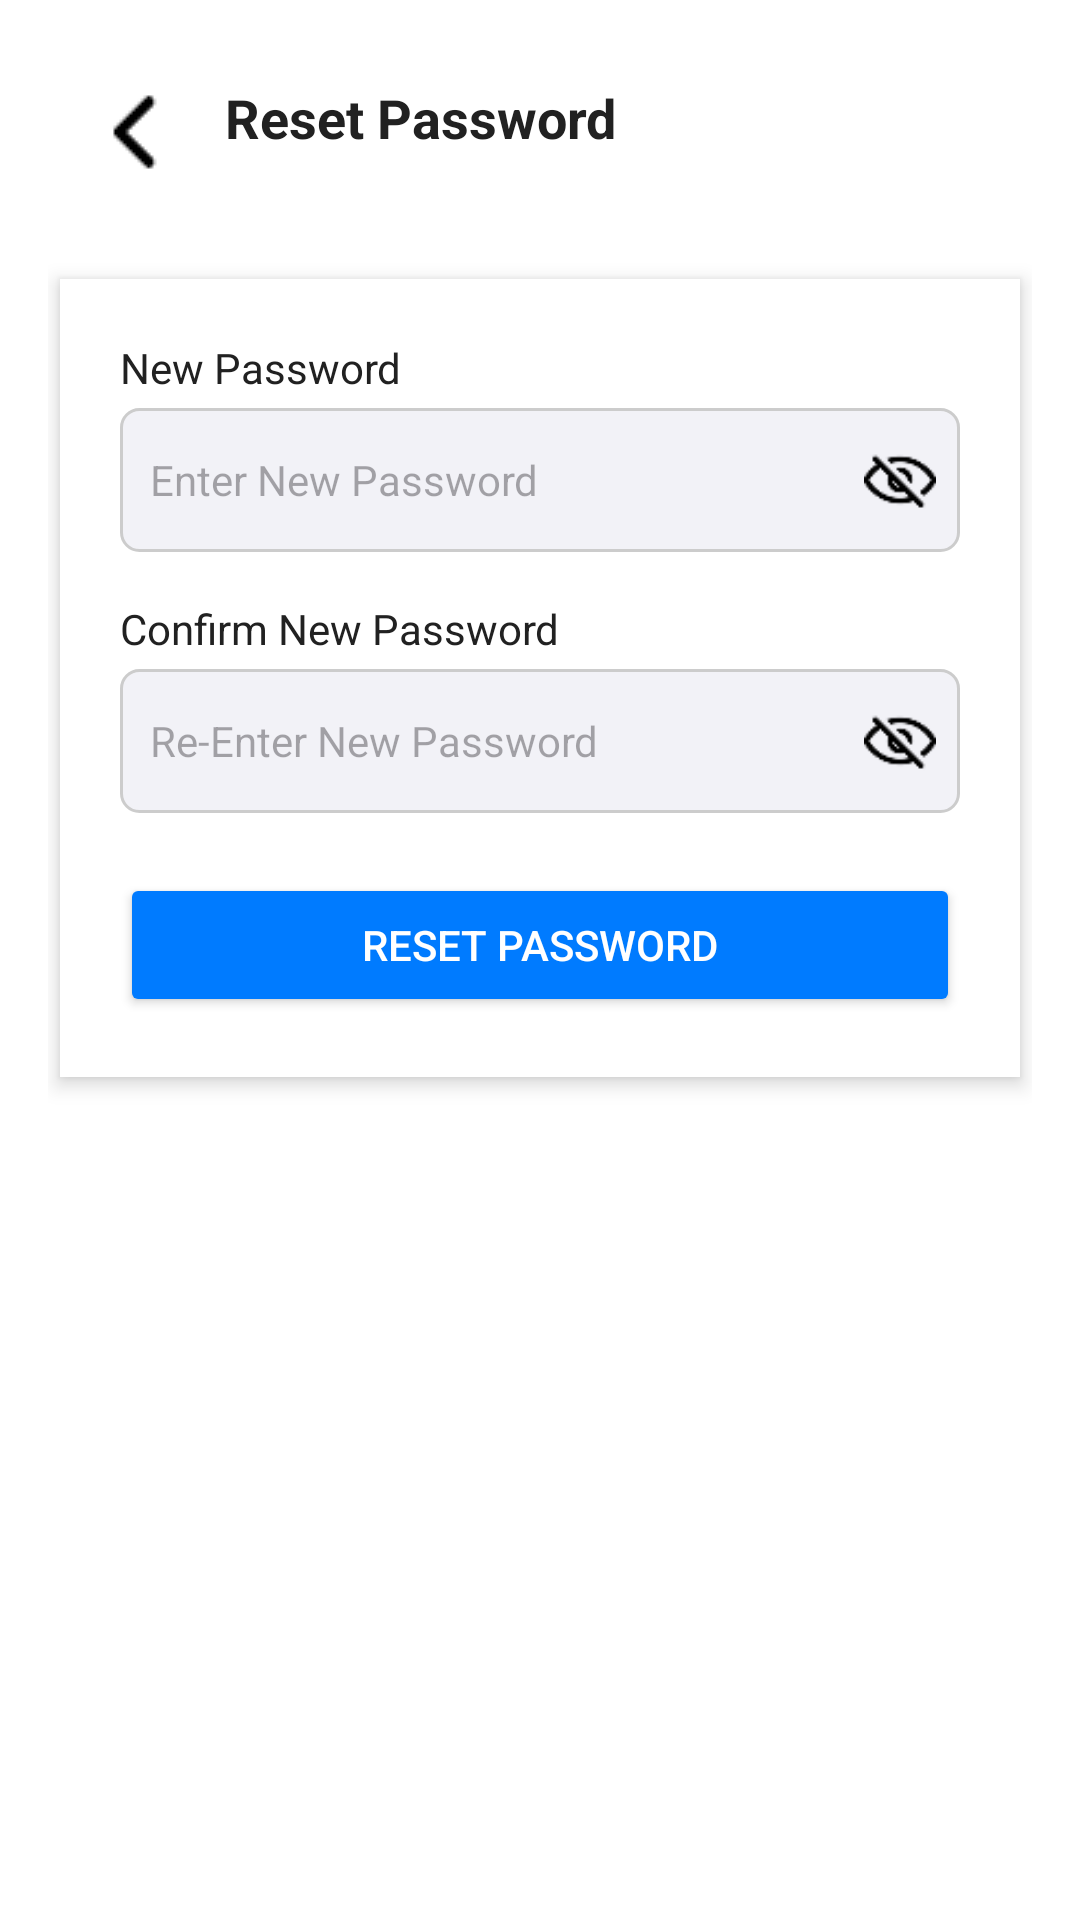

Where icons sit on this 1080 x 1920 app screen, as detection(x1, y1, x2, y2):
Show Password: detection(864, 455, 936, 508), detection(864, 716, 936, 769)
